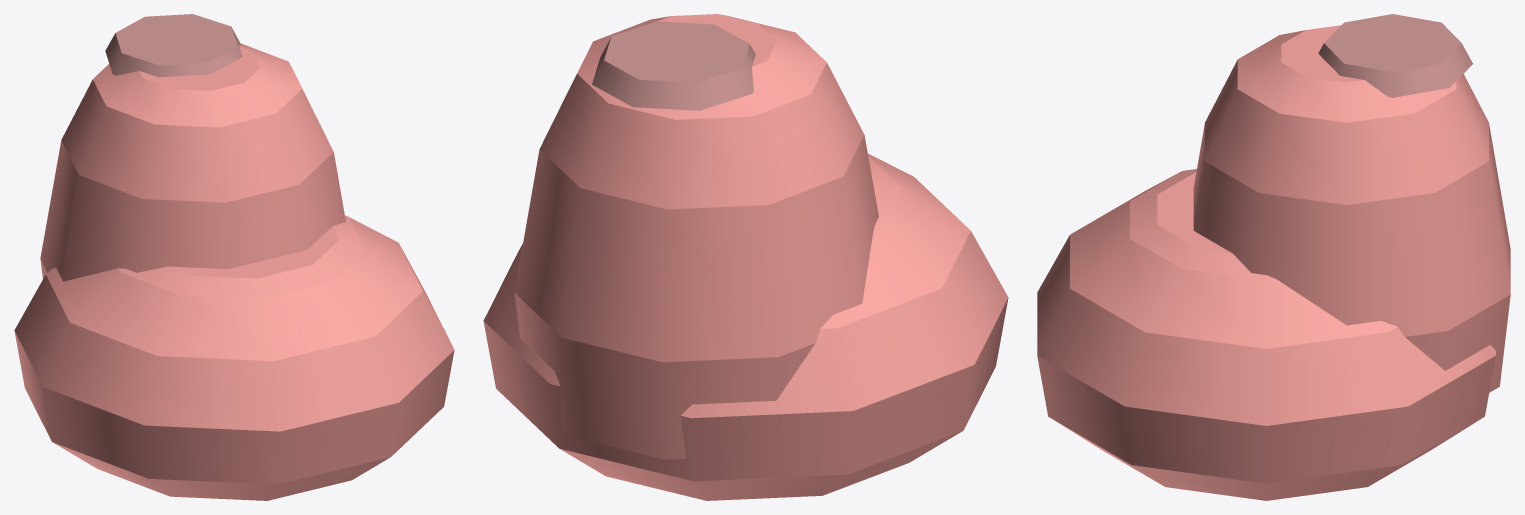
The model's file is beanBag.glb.
3 views of the same model, side by side, from view 1: azimuth 30°, elevation 25°; view 2: azimuth 150°, elevation 25°; view 3: azimuth 270°, elevation 25° (orthographic). The views are drawn at different scales.
Parts seen in each view (by area): view 1: beanBag; view 2: beanBag; view 3: beanBag.
Boxes of the visible parts, left/top/right/bottom form: beanBag: left=14, top=14, right=454, bottom=500; beanBag: left=483, top=14, right=1008, bottom=500; beanBag: left=1037, top=14, right=1510, bottom=500.
Bounding box in the file's own units: 0.42 × 0.37 × 0.4124.
